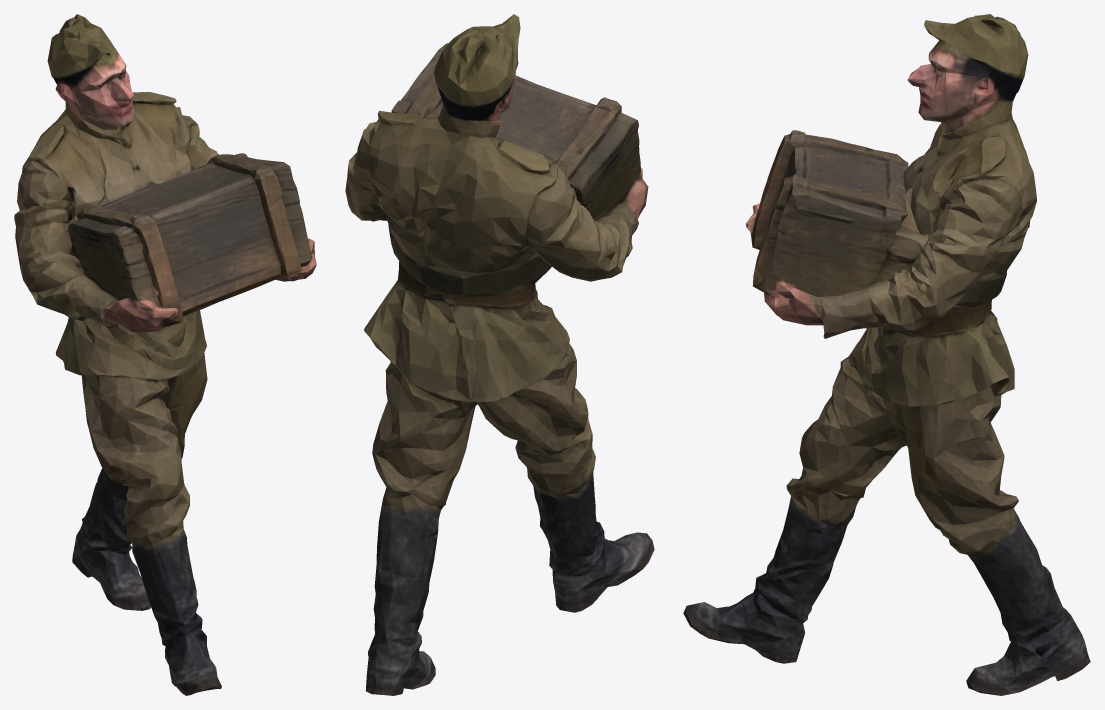
The model's file is walk_su_crate_b.glb.
3 views of the same model, side by side, from view 1: azimuth 30°, elevation 25°; view 2: azimuth 150°, elevation 25°; view 3: azimuth 270°, elevation 25° (orthographic). The views are drawn at different scales.
Parts seen in each view (by area): view 1: geometry_0; view 2: geometry_0; view 3: geometry_0.
Boxes of the visible parts, x1,y1,x2,y2 form: geometry_0: (14,14,316,695); geometry_0: (345,14,654,695); geometry_0: (683,14,1090,695).
Bounding box in the file's own units: 0.4203 × 1 × 0.5754.
1 material, 1 textured.
